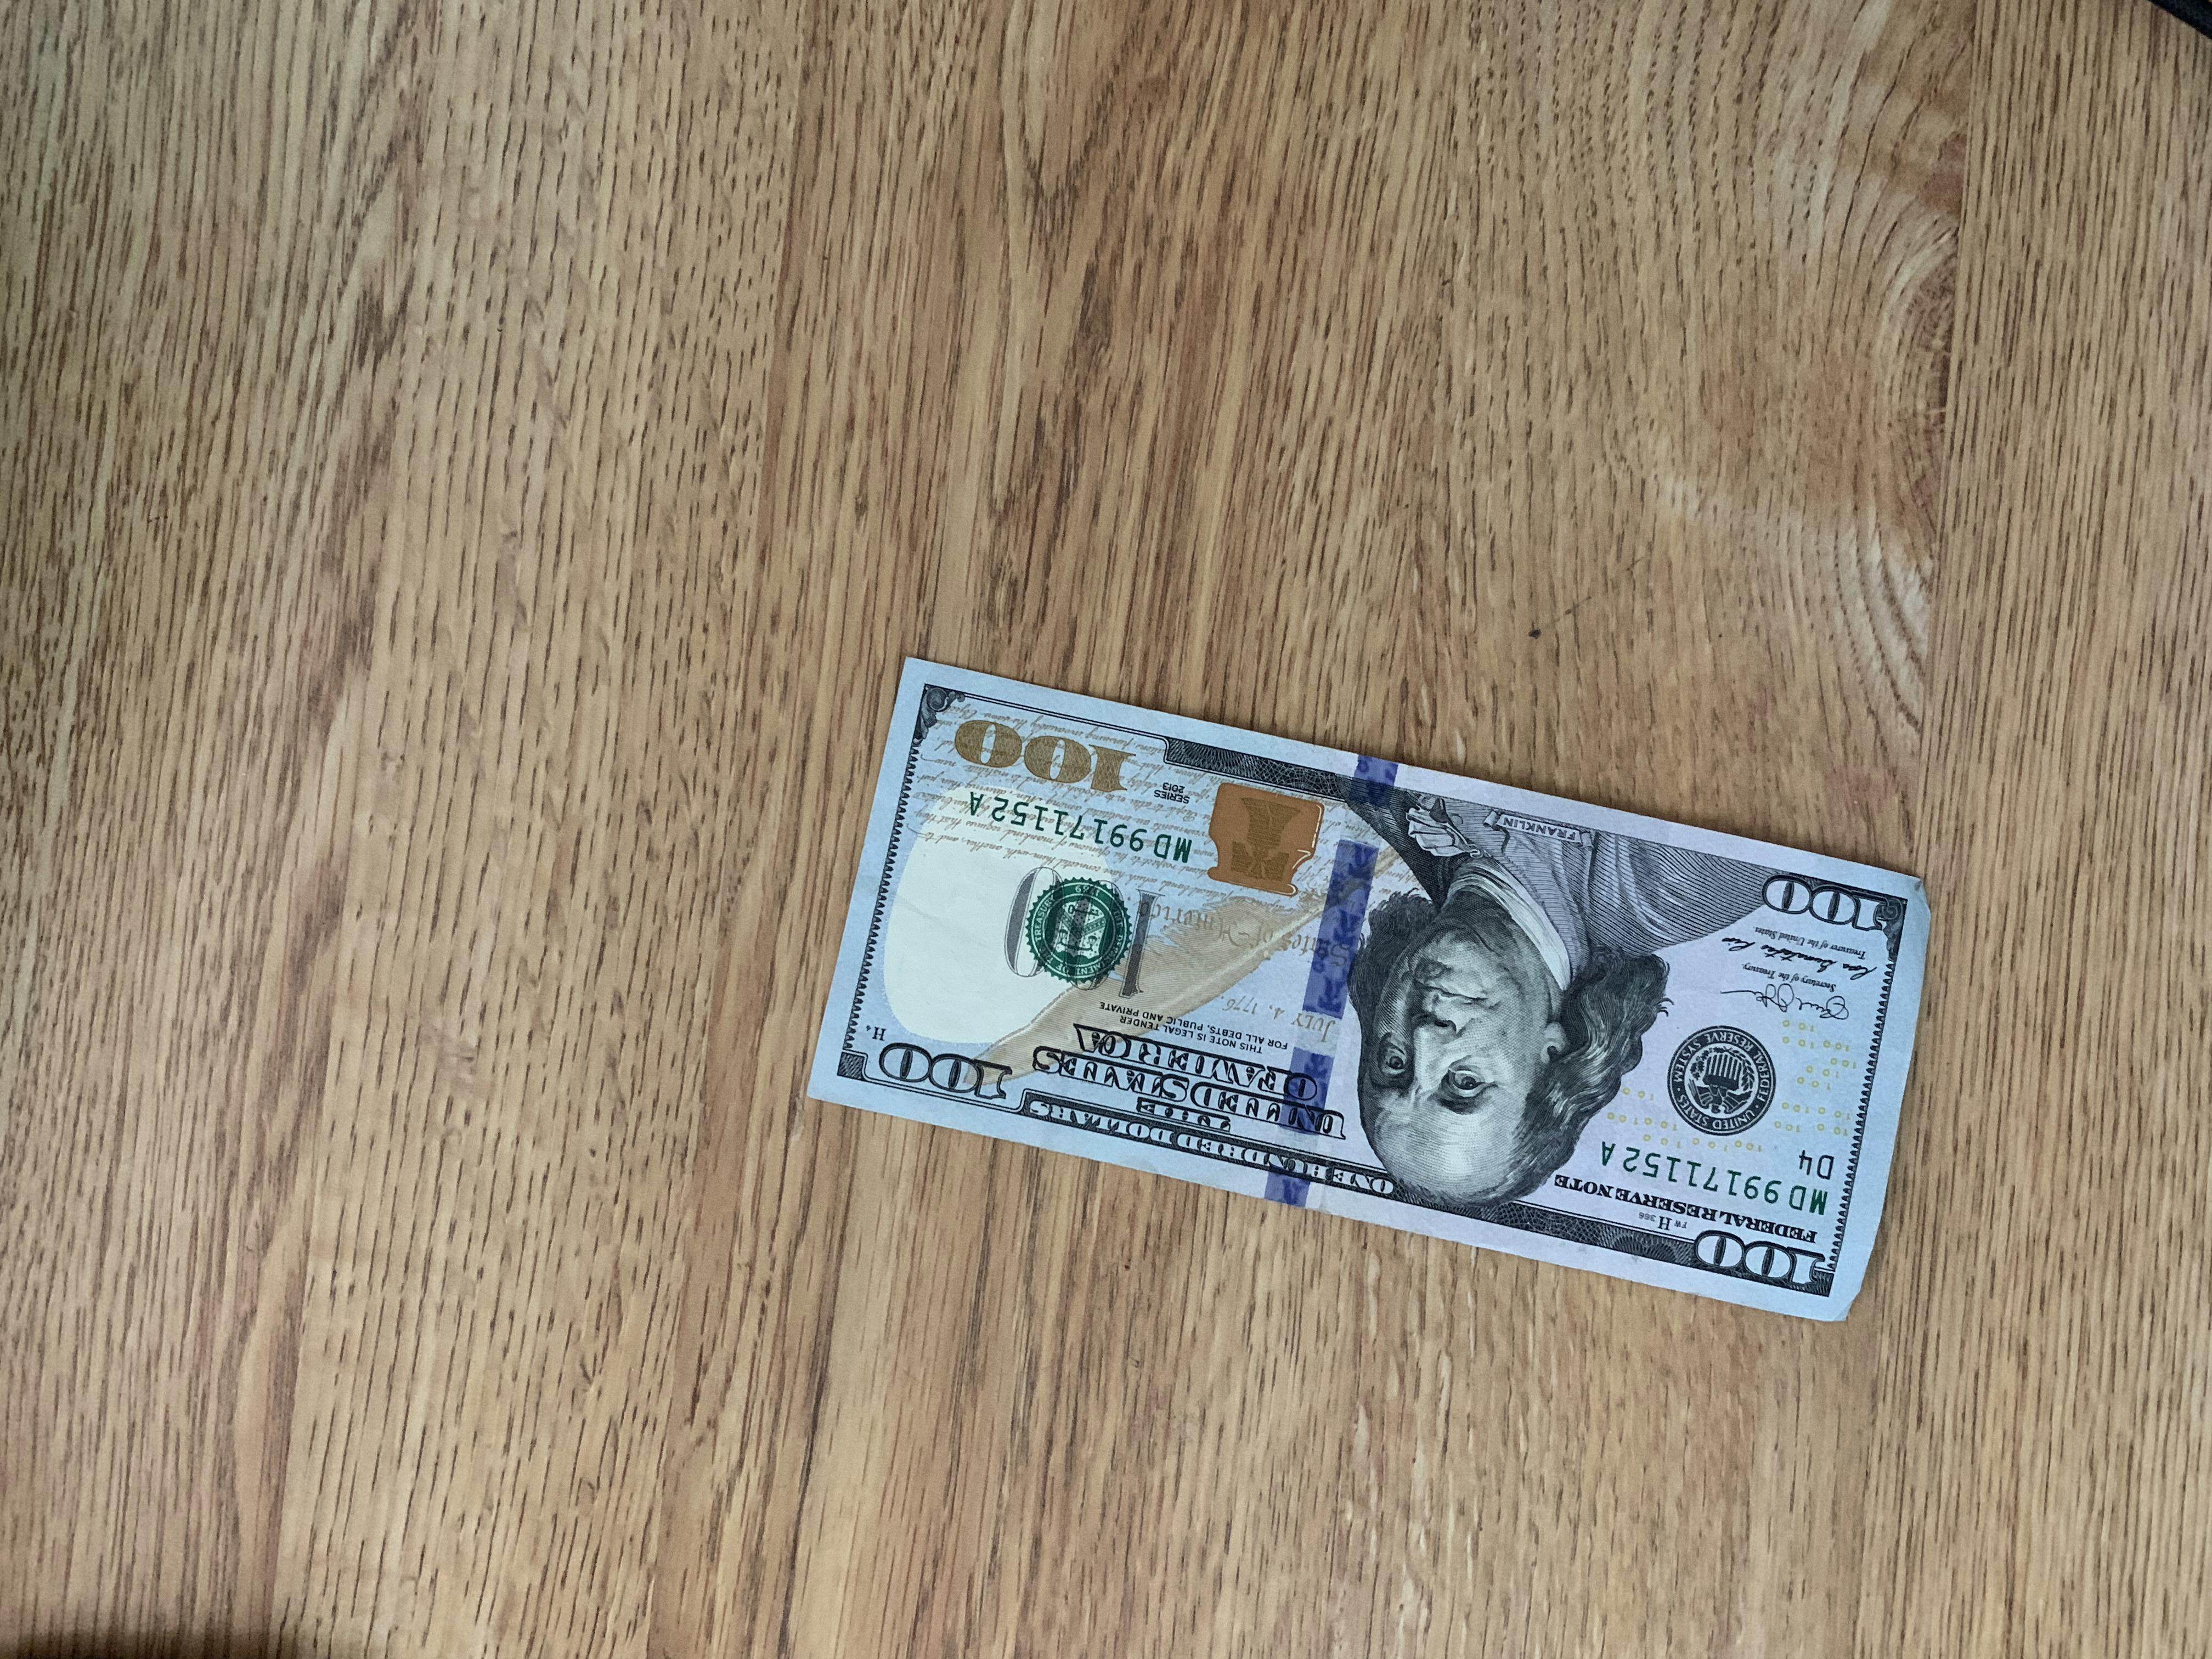HundredBill: (805, 653, 1932, 1324)
